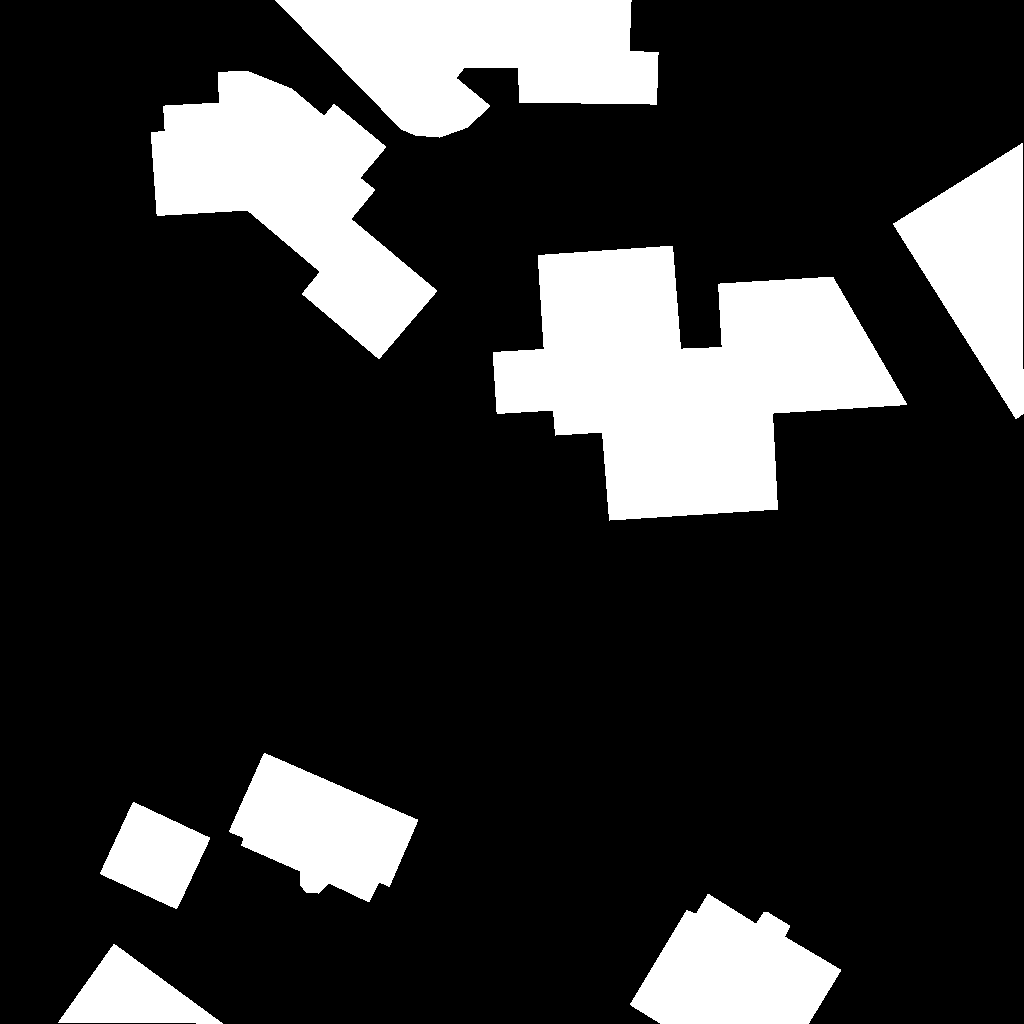building: (493, 246, 908, 521), (151, 71, 438, 360), (275, 0, 659, 138), (893, 143, 1024, 420), (229, 753, 419, 903), (630, 894, 842, 1024), (58, 944, 224, 1024), (100, 802, 211, 910)
